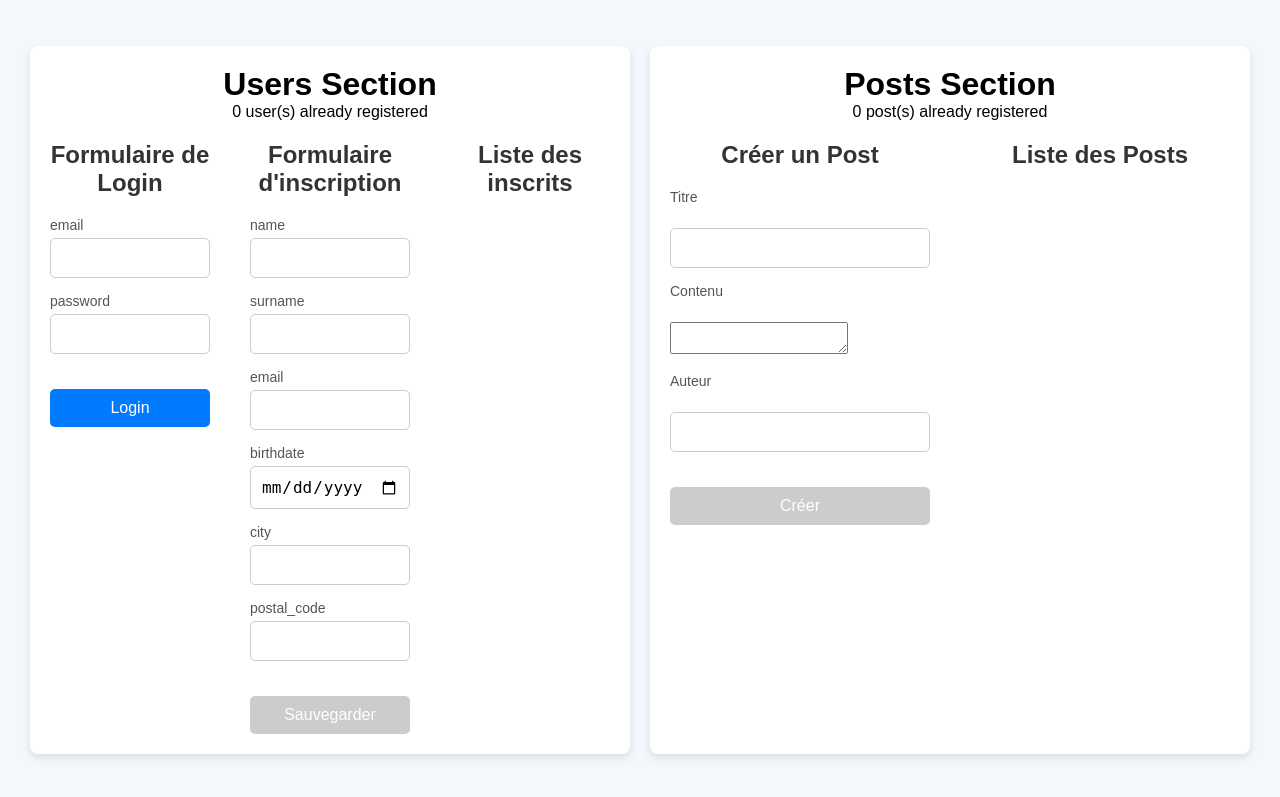
Scenario: Formulaire d'inscription - validation › affiche les messages d'erreur et le Toastr si des champs sont invalides
Type "1234" into the field named "name" at {"x": 330, "y": 258}, box [250,238,410,278]
Type "123" into the field named "surname" at {"x": 330, "y": 334}, box [250,314,410,354]
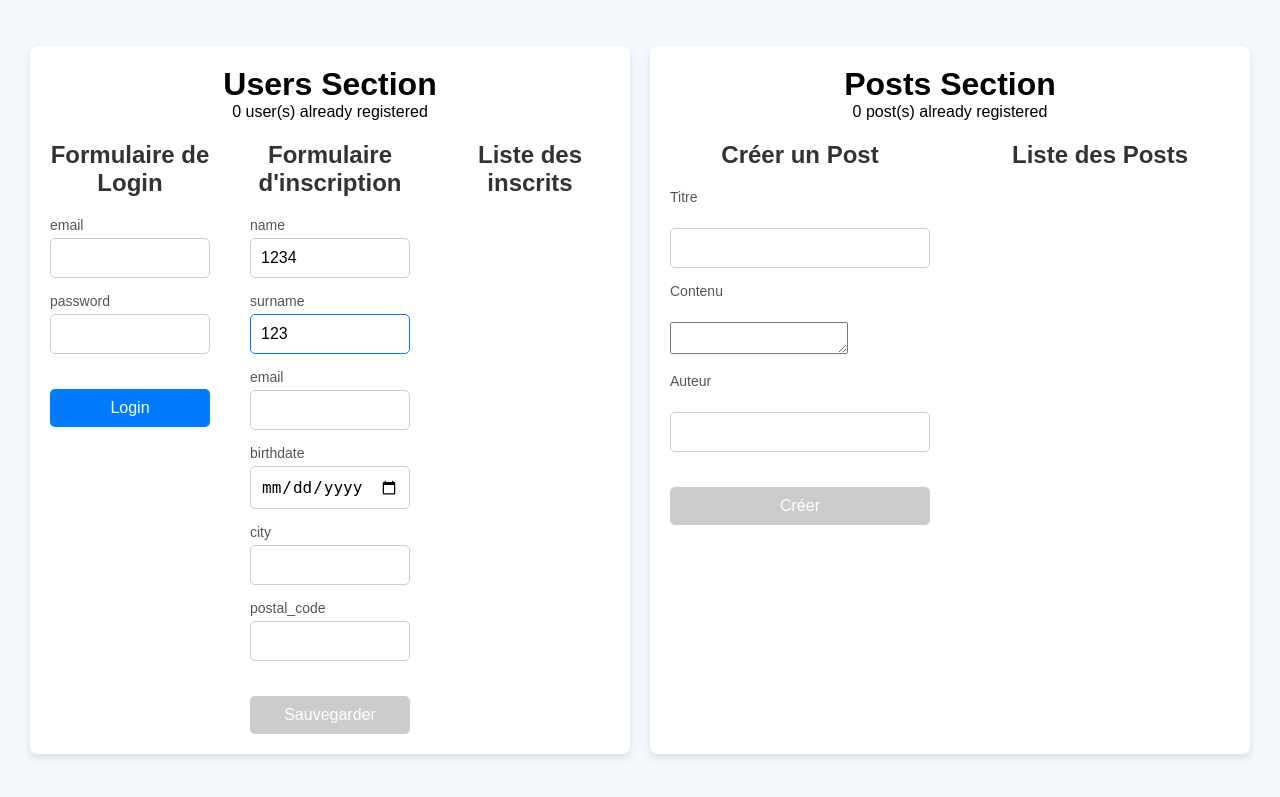
Type "email-invalide" into the field named "email" at {"x": 330, "y": 410}, box [250,390,410,430]
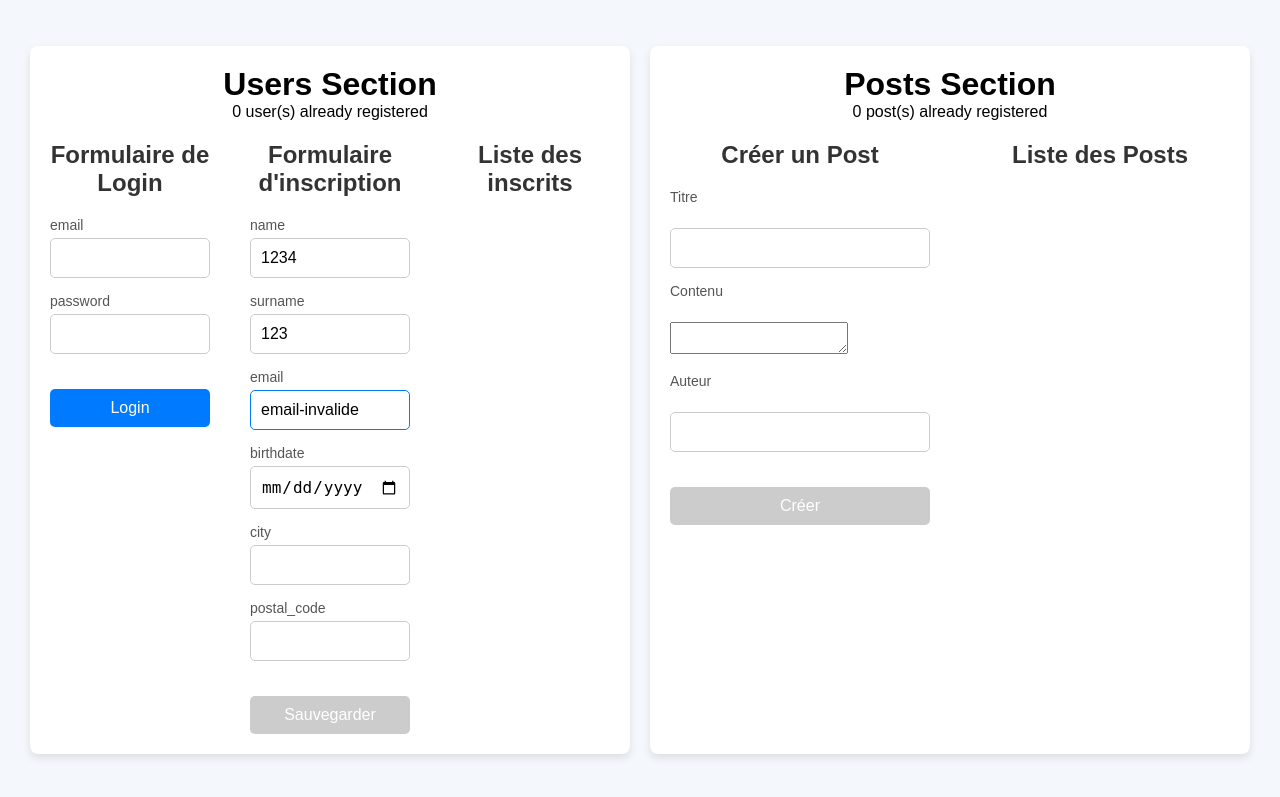
Type "2020-01-01" into the date field named "birthdate" at {"x": 330, "y": 488}, box [250,466,410,509]
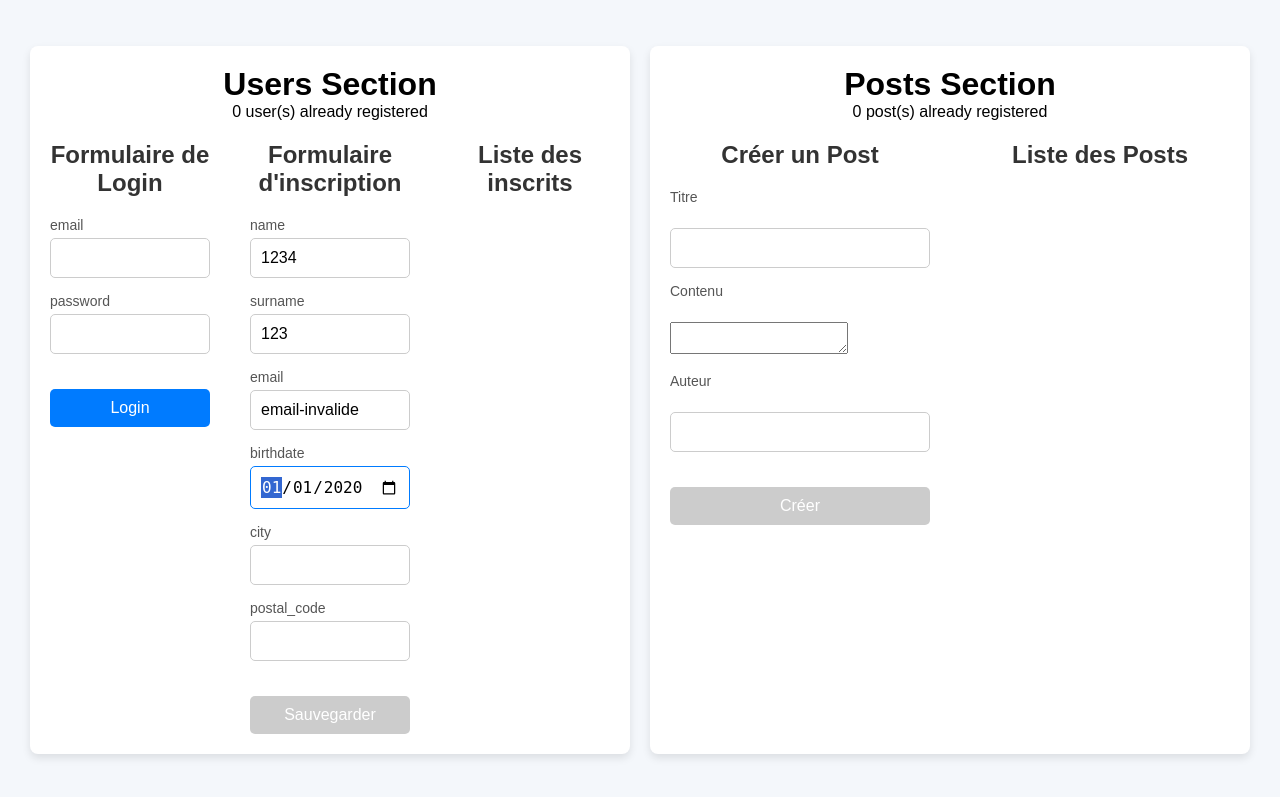
Type "$$$" into the field named "city" at {"x": 330, "y": 565}, box [250,545,410,585]
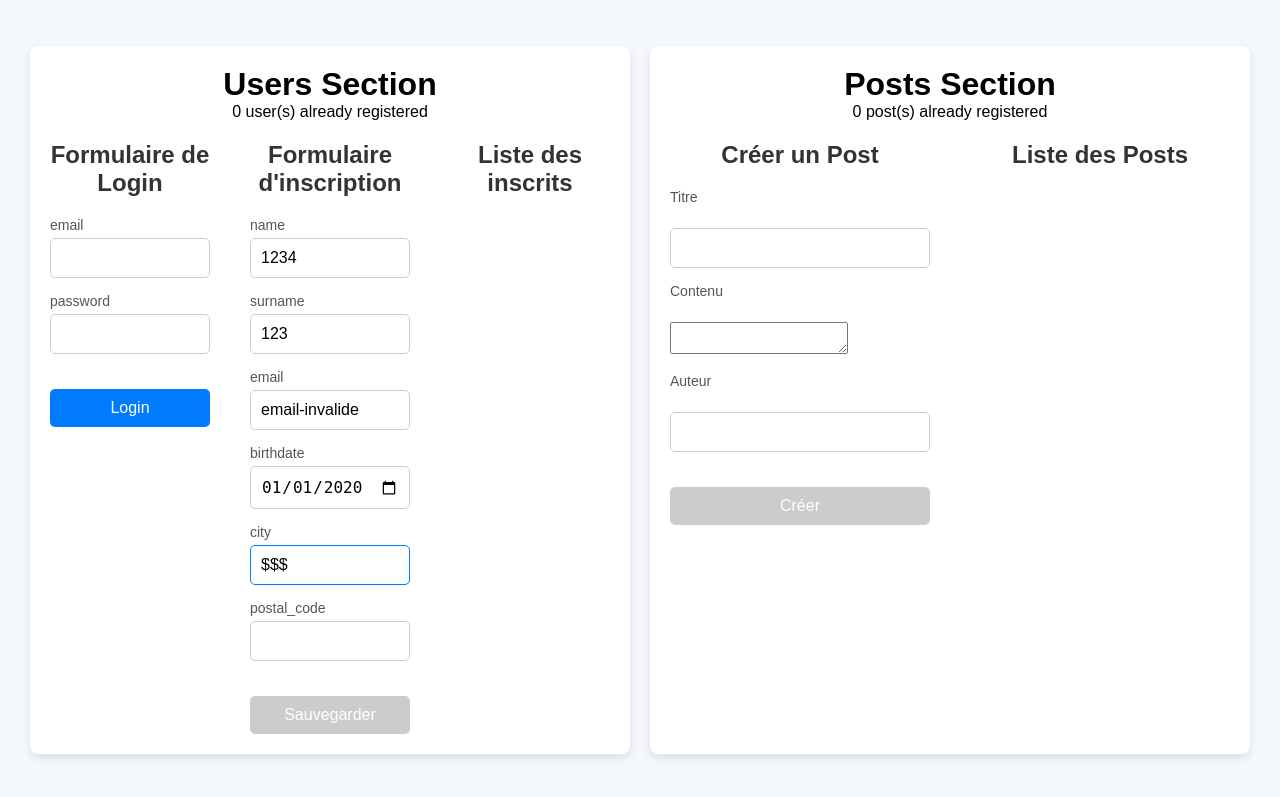
Type "abcde" into the field named "postal_code" at {"x": 330, "y": 641}, box [250,621,410,661]
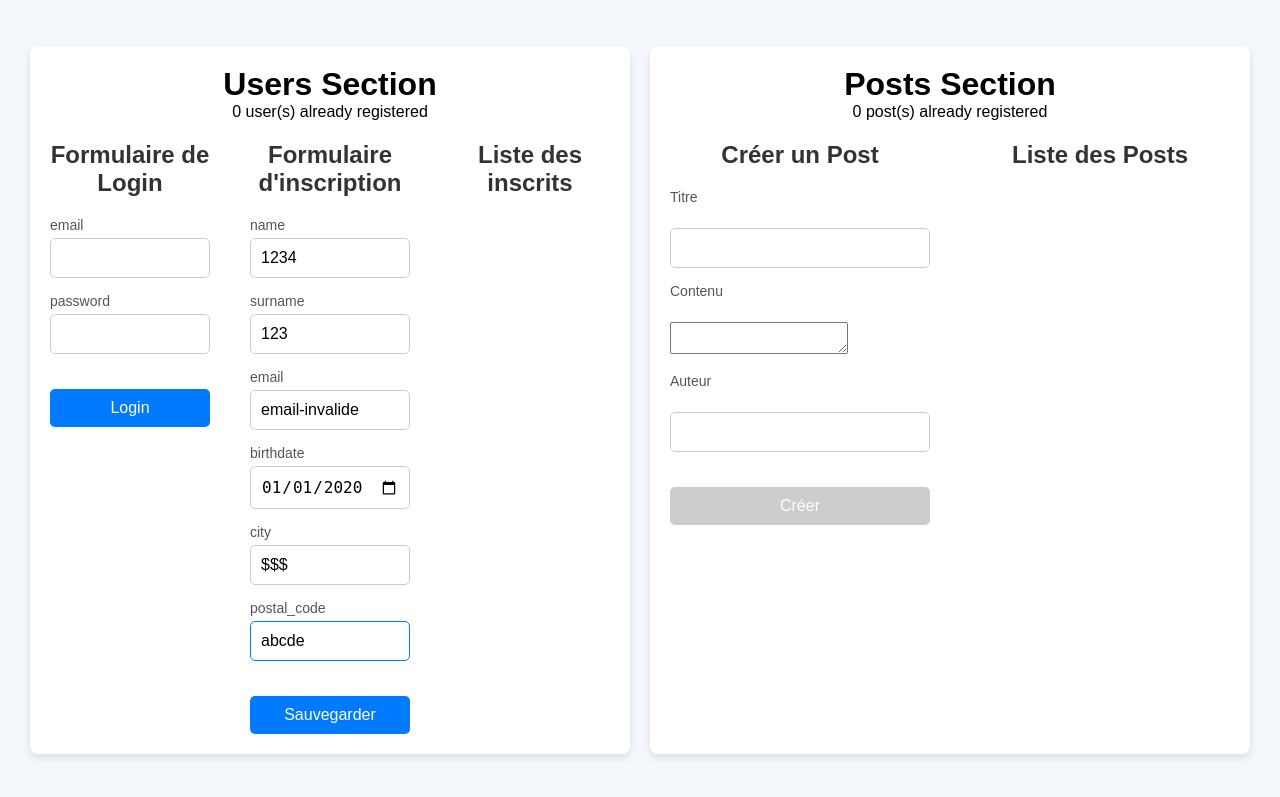
Click the button "Sauvegarder" at {"x": 330, "y": 715}, box [250,696,410,734]
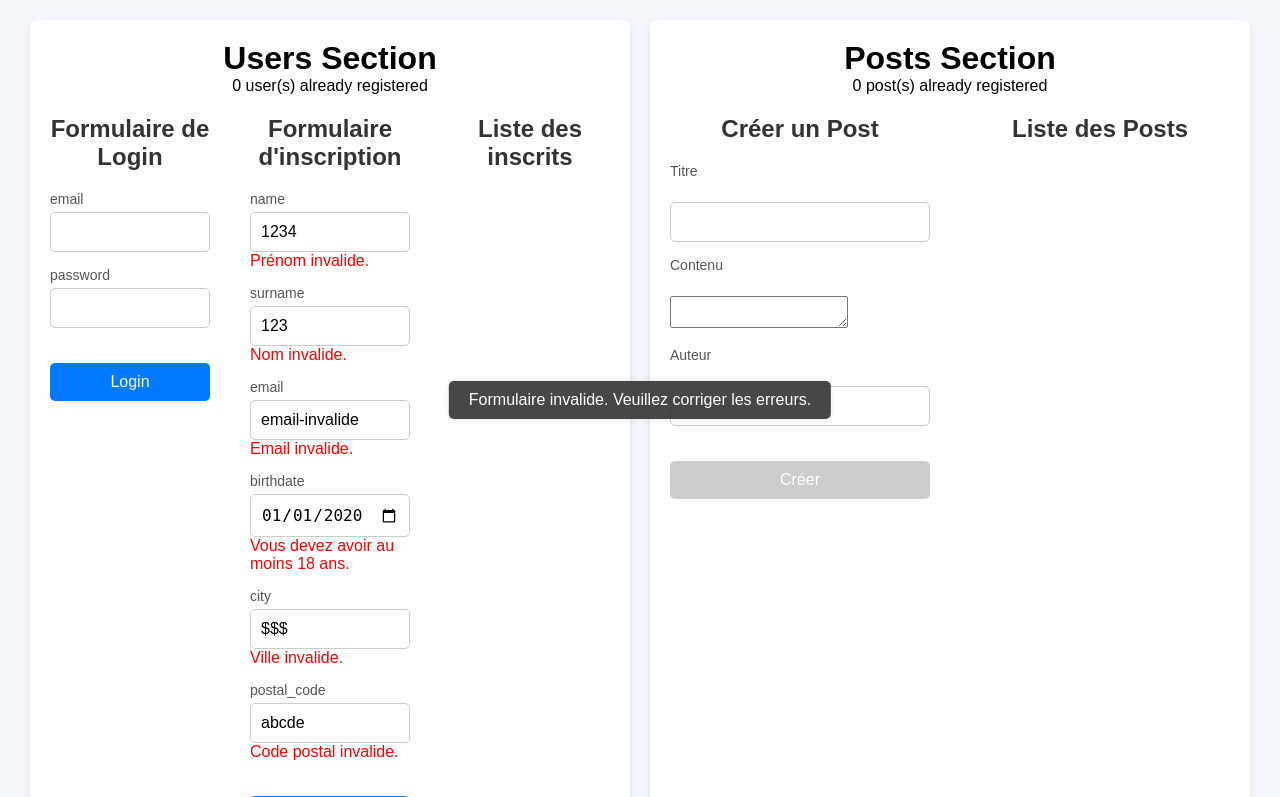
Expected: the text "Nom invalide." is shown, [250,346,347,363]
Expected: the text "Prénom invalide." is shown, [250,252,369,269]
Expected: the text "Email invalide." is shown, [250,440,353,457]
